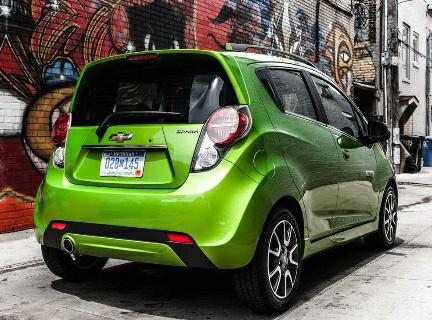雪佛兰-斯帕可: (28, 43, 408, 310)
